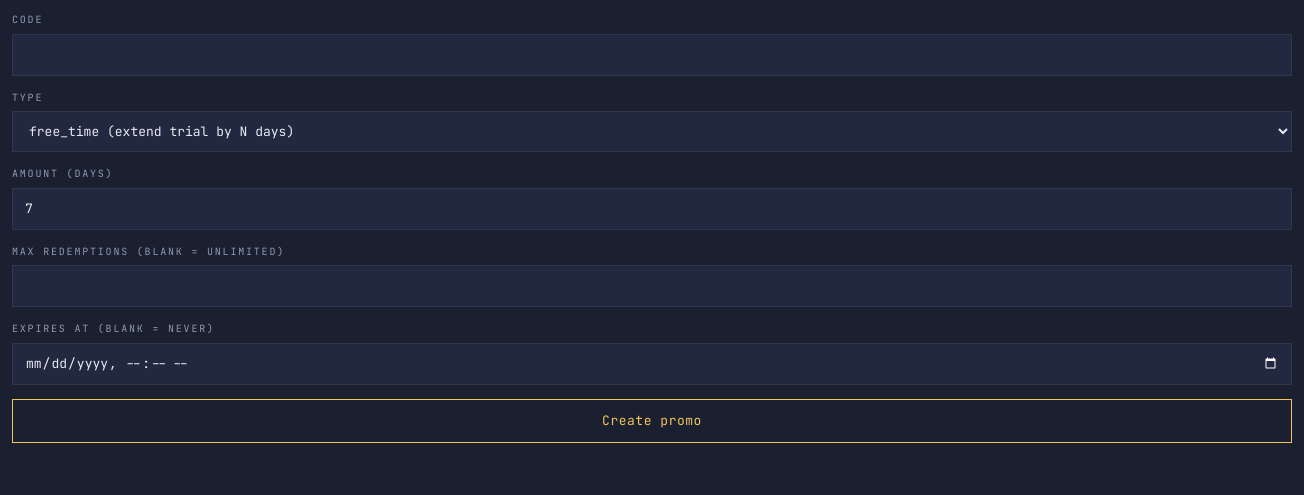
Test: CreatePromoForm › blocks submission and shows an error when amount is non-numeric
In the field labelled "Code": (652, 55) [12,34,1292,76], type "GIFT"
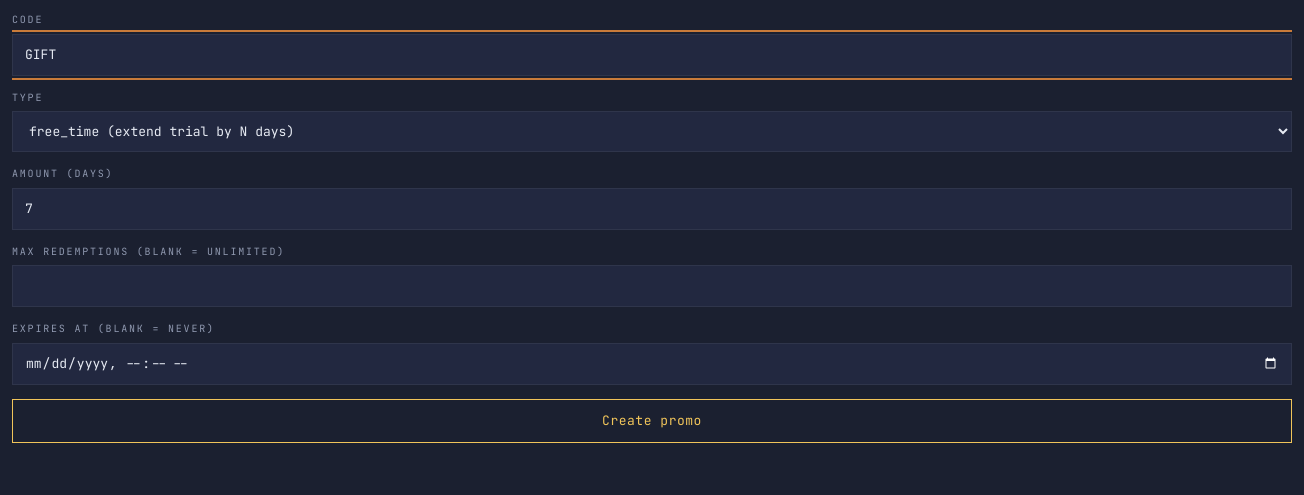
Replace the text in the number field labelled "Amount (days)" with "0": (652, 209) [12,188,1292,230]
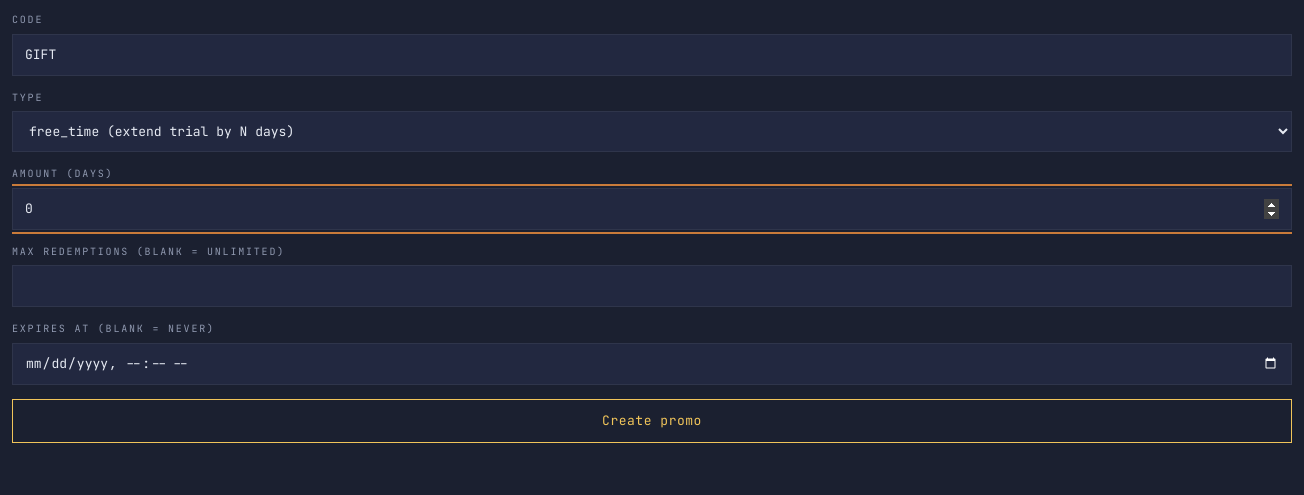
Click the button "Create promo": (652, 421) [12,399,1292,443]
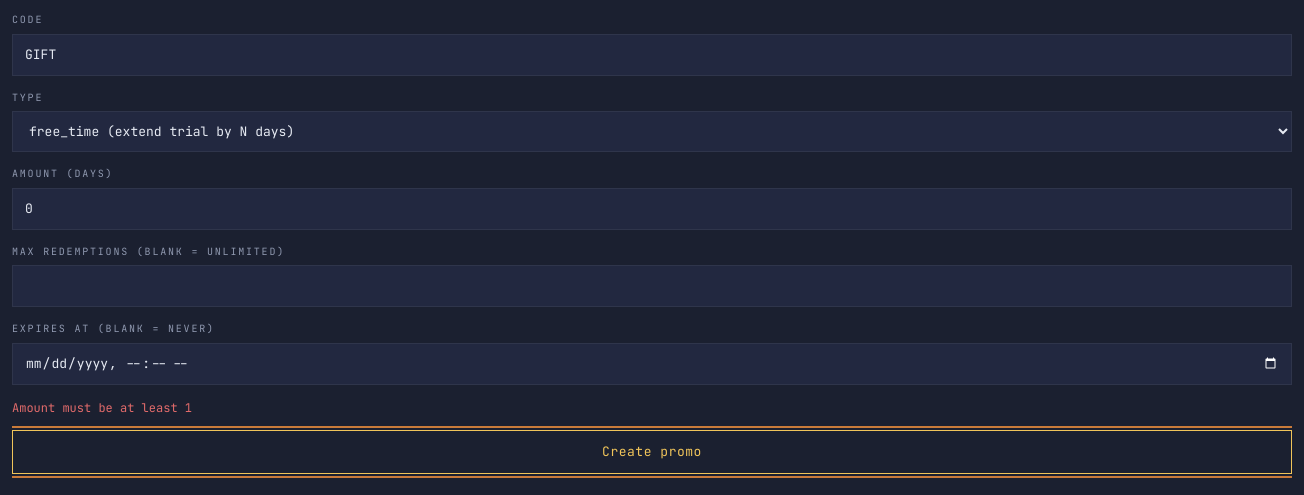
Expected: the message reads "Amount must be at least 1", [12,400,192,416]
